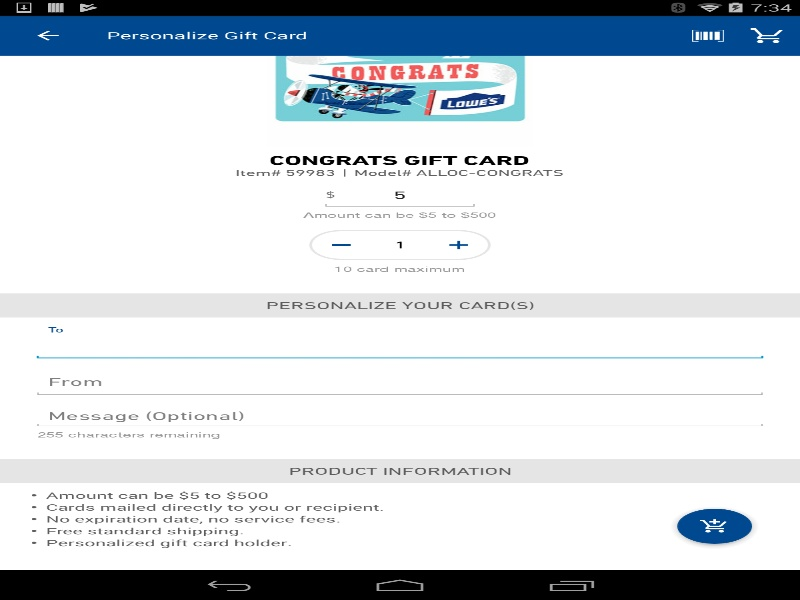Button: (661, 497, 768, 555), (10, 15, 85, 55)
Input: (32, 332, 768, 360), (32, 369, 768, 397), (32, 406, 768, 428), (320, 184, 480, 209), (373, 235, 426, 254)
